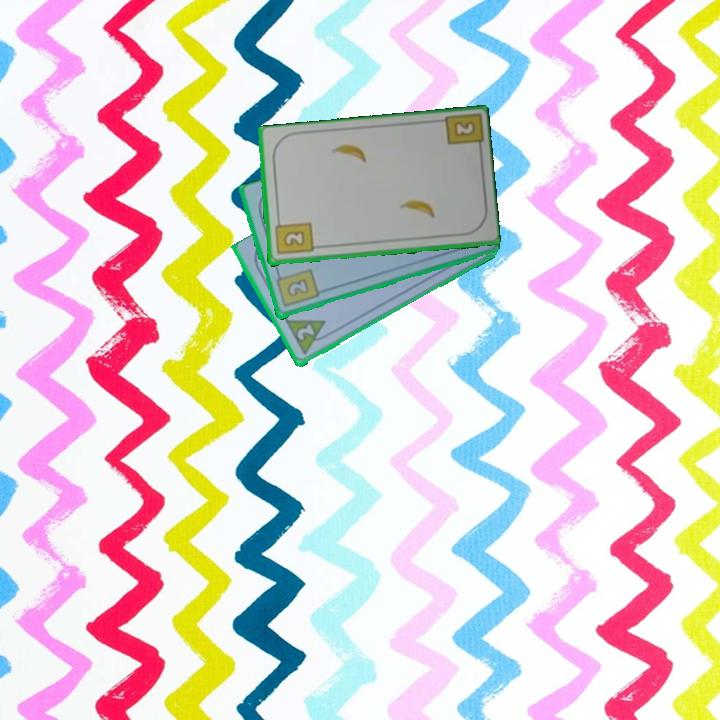2b: (272, 266, 321, 310), (271, 216, 315, 258), (450, 117, 478, 140)
2p: (282, 316, 334, 359)
